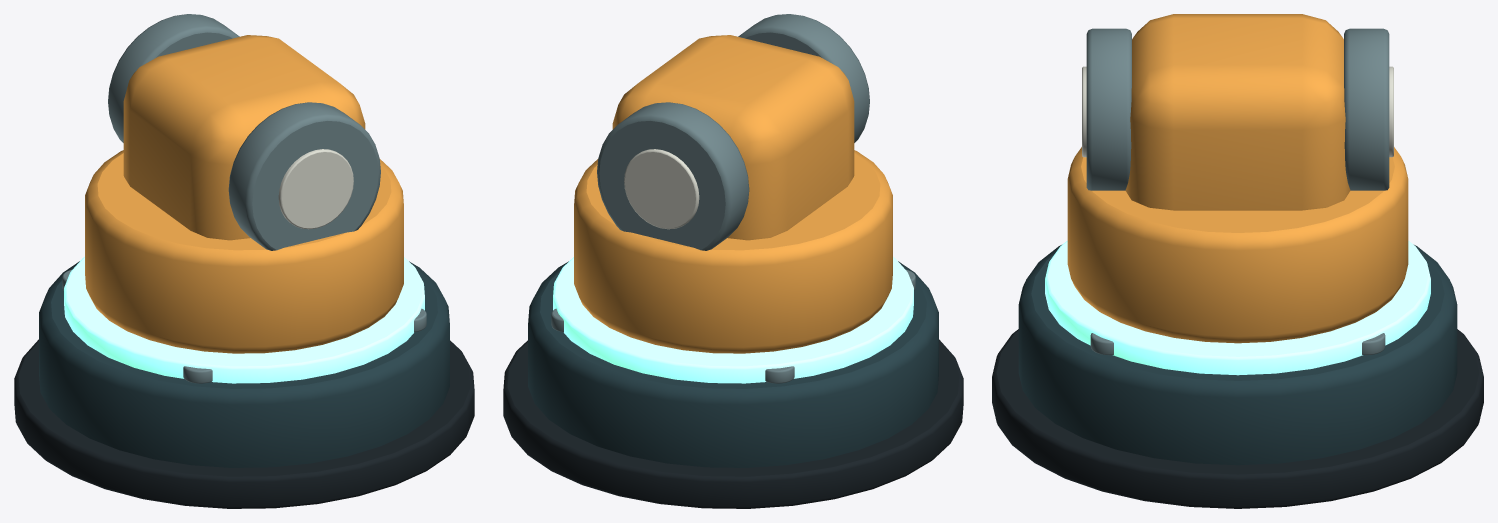
File: robot_base.glb
3 views of the same model, side by side, from view 1: azimuth 30°, elevation 25°; view 2: azimuth 150°, elevation 25°; view 3: azimuth 270°, elevation 25° (orthographic). The views are drawn at different scales.
Visible parts, largest first — view 1: Seed_Shoulder body.001, Seed_Turret.001, Seed_Shoulder yoke.001, Seed_Base gasket.001, Seed_Status ring.001, Seed_Shoulder hub.002, Seed_Hub cap.002, Seed_Shoulder hub.003; view 2: Seed_Shoulder body.001, Seed_Turret.001, Seed_Shoulder yoke.001, Seed_Base gasket.001, Seed_Status ring.001, Seed_Shoulder hub.003, Seed_Hub cap.003, Seed_Shoulder hub.002; view 3: Seed_Shoulder body.001, Seed_Turret.001, Seed_Shoulder yoke.001, Seed_Base gasket.001, Seed_Status ring.001, Seed_Shoulder hub.002, Seed_Shoulder hub.003.
Part boxes in pixels (x1,y1,x2,y2): Seed_Shoulder body.001: [85, 150, 403, 353]; Seed_Turret.001: [39, 261, 449, 467]; Seed_Shoulder yoke.001: [123, 35, 365, 240]; Seed_Base gasket.001: [14, 339, 474, 508]; Seed_Status ring.001: [64, 257, 424, 383]; Seed_Shoulder hub.002: [228, 102, 380, 250]; Seed_Hub cap.002: [278, 149, 353, 229]; Seed_Shoulder hub.003: [108, 14, 239, 142]; Seed_Shoulder body.001: [574, 150, 892, 353]; Seed_Turret.001: [528, 261, 938, 467]; Seed_Shoulder yoke.001: [612, 35, 854, 240]; Seed_Base gasket.001: [503, 339, 963, 508]; Seed_Status ring.001: [553, 257, 913, 383]; Seed_Shoulder hub.003: [597, 102, 749, 250]; Seed_Hub cap.003: [624, 149, 699, 229]; Seed_Shoulder hub.002: [738, 14, 869, 142]; Seed_Shoulder body.001: [1067, 147, 1408, 343]; Seed_Turret.001: [1018, 245, 1457, 465]; Seed_Shoulder yoke.001: [1125, 14, 1350, 210]; Seed_Base gasket.001: [992, 329, 1483, 508]; Seed_Status ring.001: [1045, 241, 1430, 375]; Seed_Shoulder hub.002: [1086, 28, 1131, 190]; Seed_Shoulder hub.003: [1344, 28, 1389, 190].
Size of the model in its own units: 1.3 by 1.08 by 1.3.
